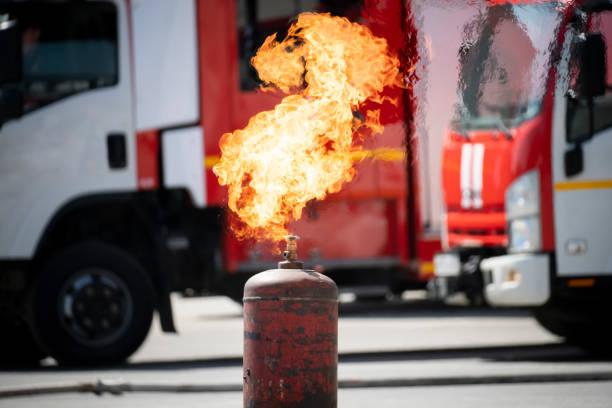Fire: (216, 0, 404, 249)
